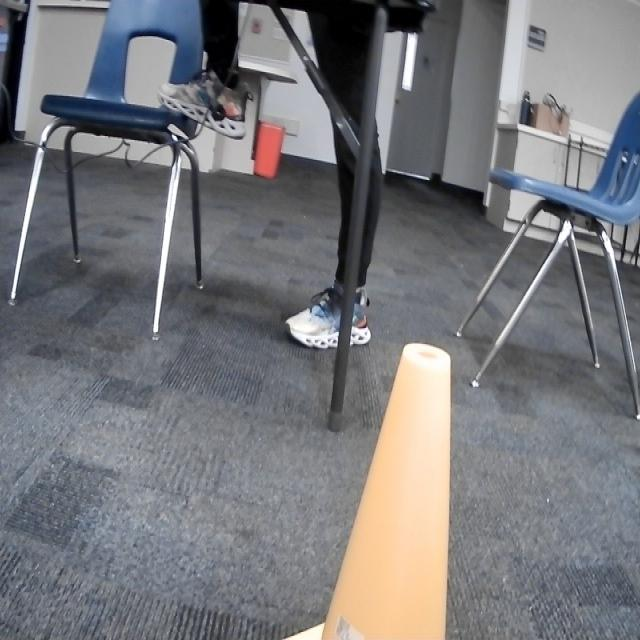cone: (275, 342, 451, 640)
